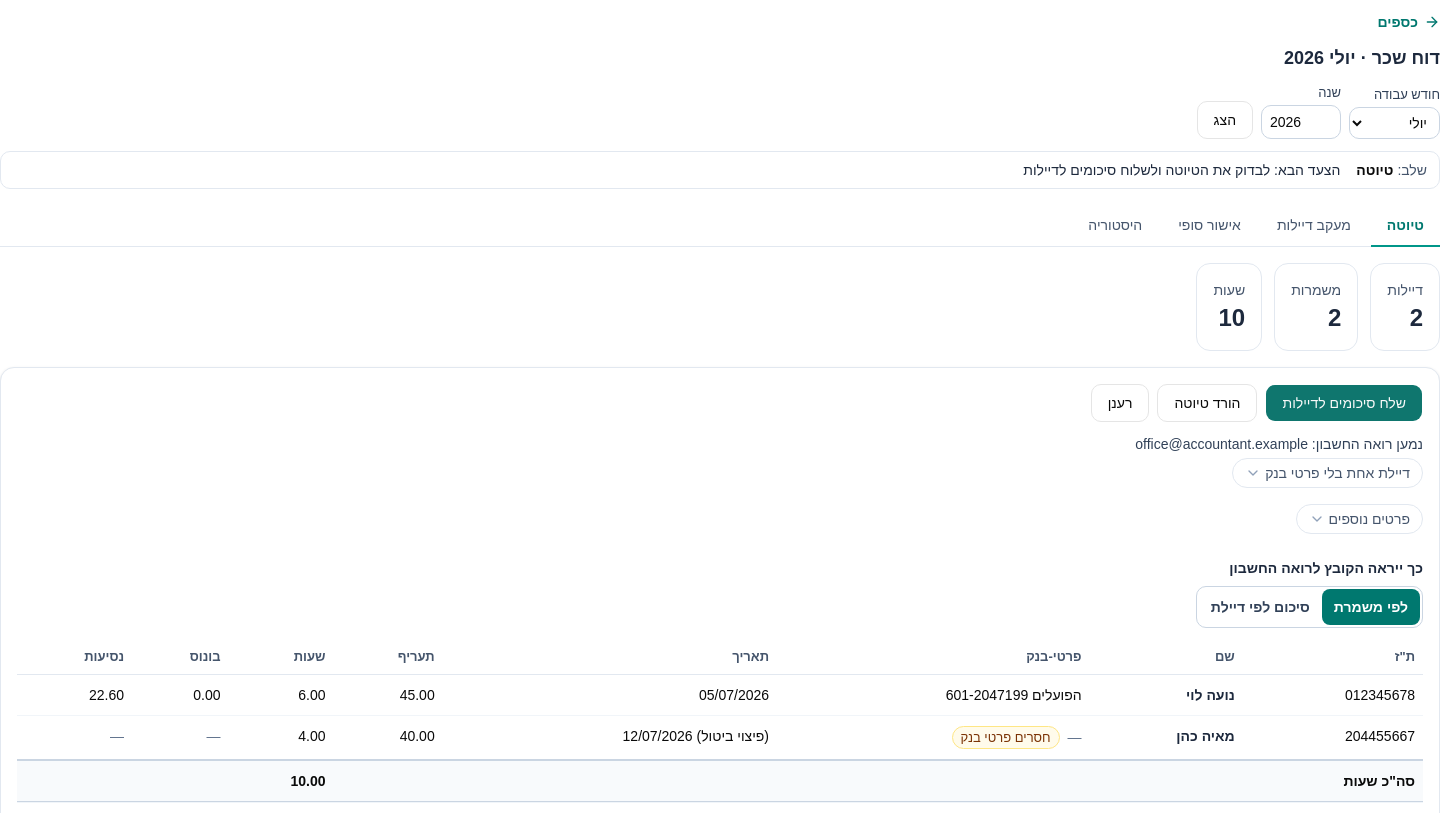
Scenario: מצב: טיוטה מוכנה › הורדת טיוטה: הטוסט מופיע רק אחרי שהקובץ נבנה, עם כל השורות
Click the button with test id "payroll-download-draft" at (1207, 403), box [1157,384,1258,422]
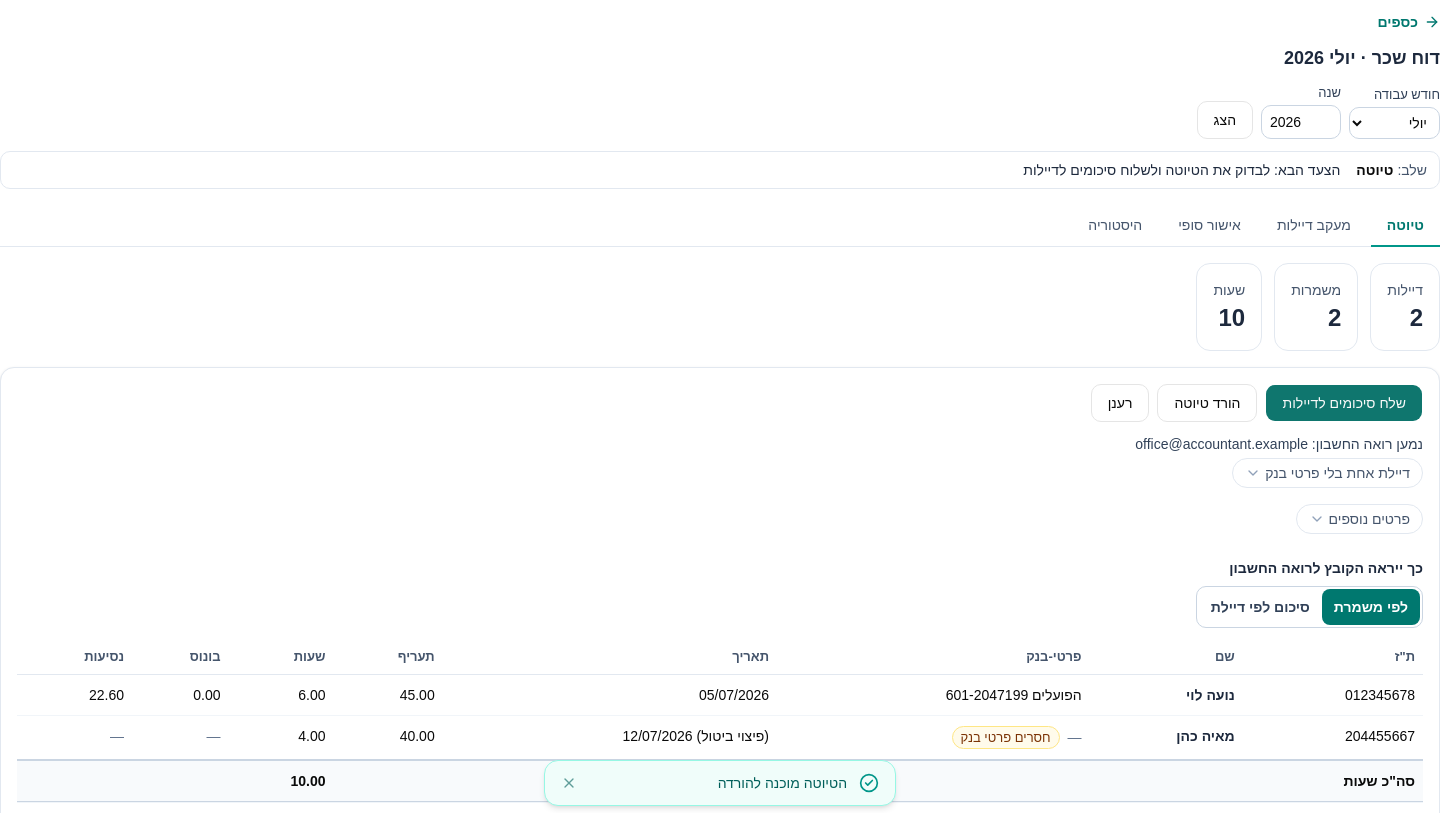
Expected: the text "הטיוטה מוכנה להורדה" is shown, [718,775,847,791]
